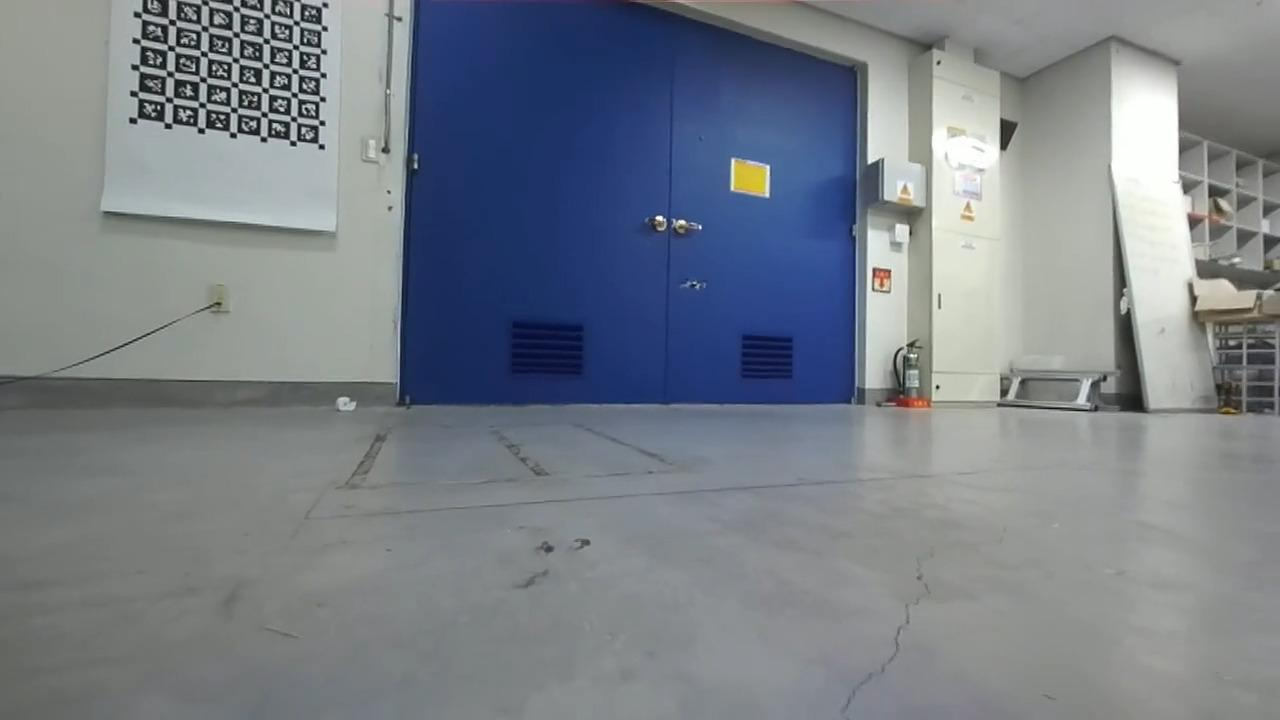crazyflie: (671, 272, 717, 296)
